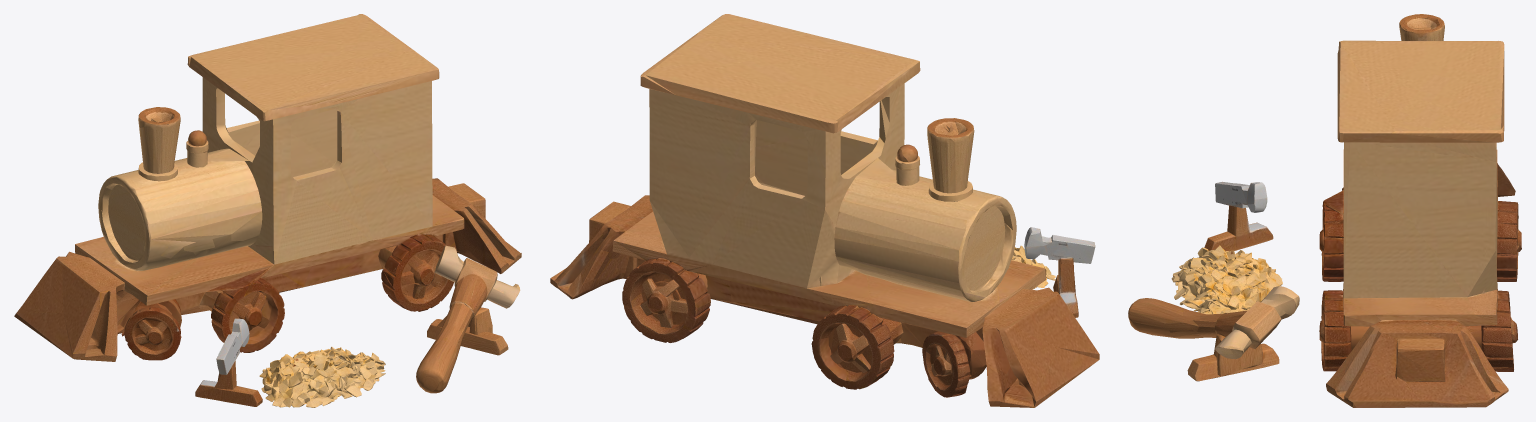
The model's file is xmas_ws_toys.glb.
3 views of the same model, side by side, from view 1: azimuth 30°, elevation 25°; view 2: azimuth 150°, elevation 25°; view 3: azimuth 270°, elevation 25° (orthographic). The views are drawn at different scales.
Bounding box in the file's own units: 1.89 × 0.9563 × 1.37.
1 material, 1 textured.
